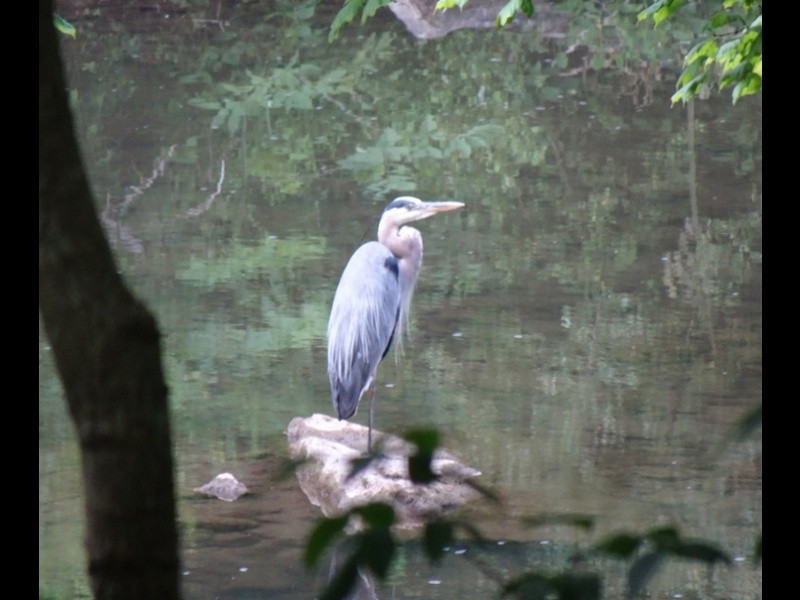heron: (320, 191, 468, 467)
